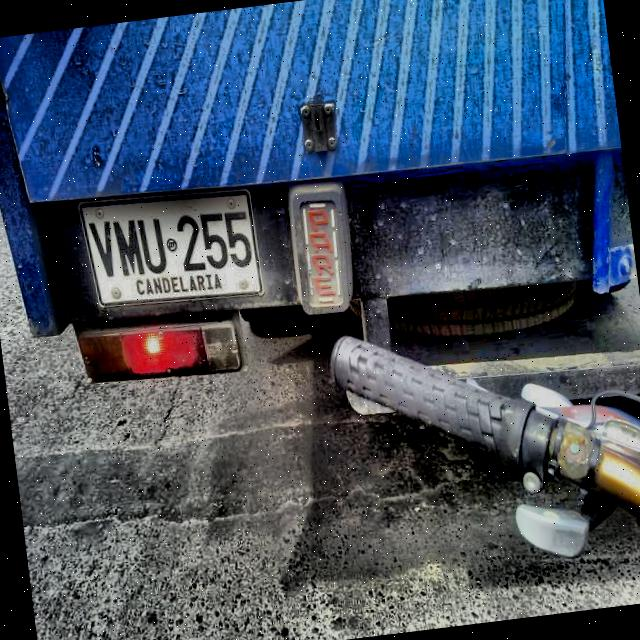plate: (80, 192, 260, 306)
